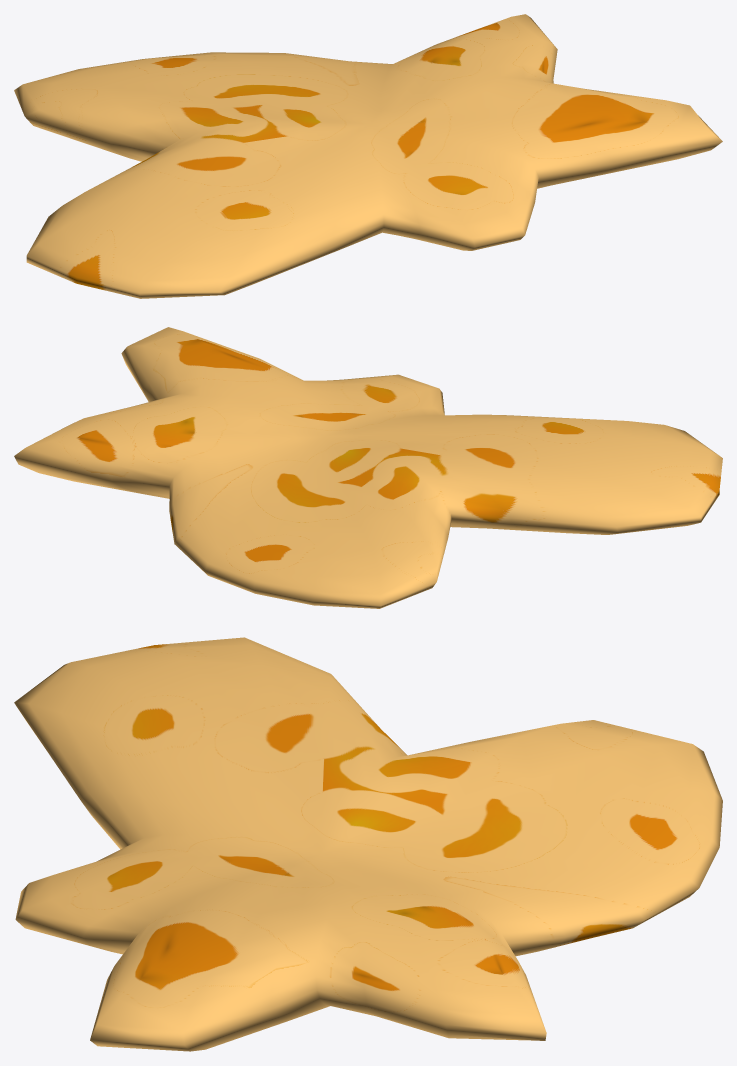
The model's file is potato_squashed.glb.
The picture shows the model from 3 angles, top to bottom: view 1: azimuth 30°, elevation 25°; view 2: azimuth 150°, elevation 25°; view 3: azimuth 270°, elevation 25°; orthographic projection. The views are drawn at different scales.
Parts seen in each view (by area): view 1: Sphere; view 2: Sphere; view 3: Sphere.
Part boxes in pixels (bbox=[...]): Sphere: bbox=[14, 14, 722, 298]; Sphere: bbox=[14, 327, 722, 608]; Sphere: bbox=[14, 637, 722, 1051].
Bounding box in the file's own units: 1.18 × 0.145 × 0.8636.
Materials: 1 (1 with a texture image).
